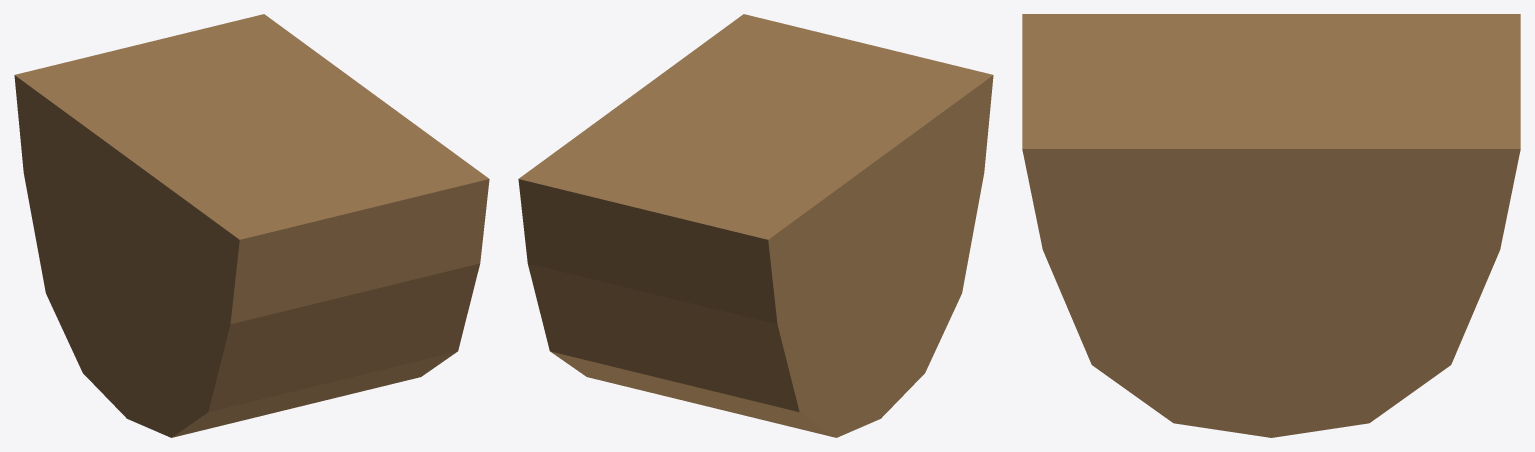
Rendered from Platform_BottomMiddle.glb.
3 renders of one model, left to right at view 1: azimuth 30°, elevation 25°; view 2: azimuth 150°, elevation 25°; view 3: azimuth 270°, elevation 25°, orthographic. The views are drawn at different scales.
Parts seen in each view (by area): view 1: Platform_BottomMiddle; view 2: Platform_BottomMiddle; view 3: Platform_BottomMiddle.
Part boxes in pixels (x1,y1,x2,y2): Platform_BottomMiddle: [14, 14, 489, 437]; Platform_BottomMiddle: [518, 14, 993, 437]; Platform_BottomMiddle: [1022, 14, 1520, 437].
Size of the model in its own units: 2 by 2 by 3.13.
